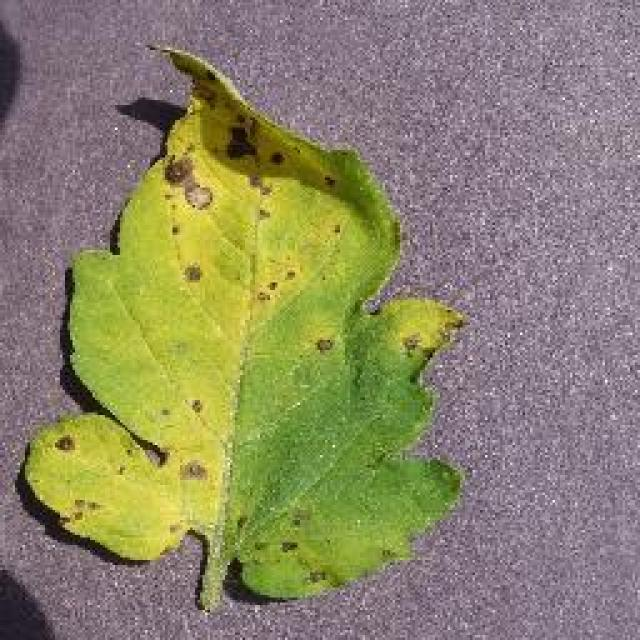Tomato target spot leaf: (24, 38, 461, 598)
